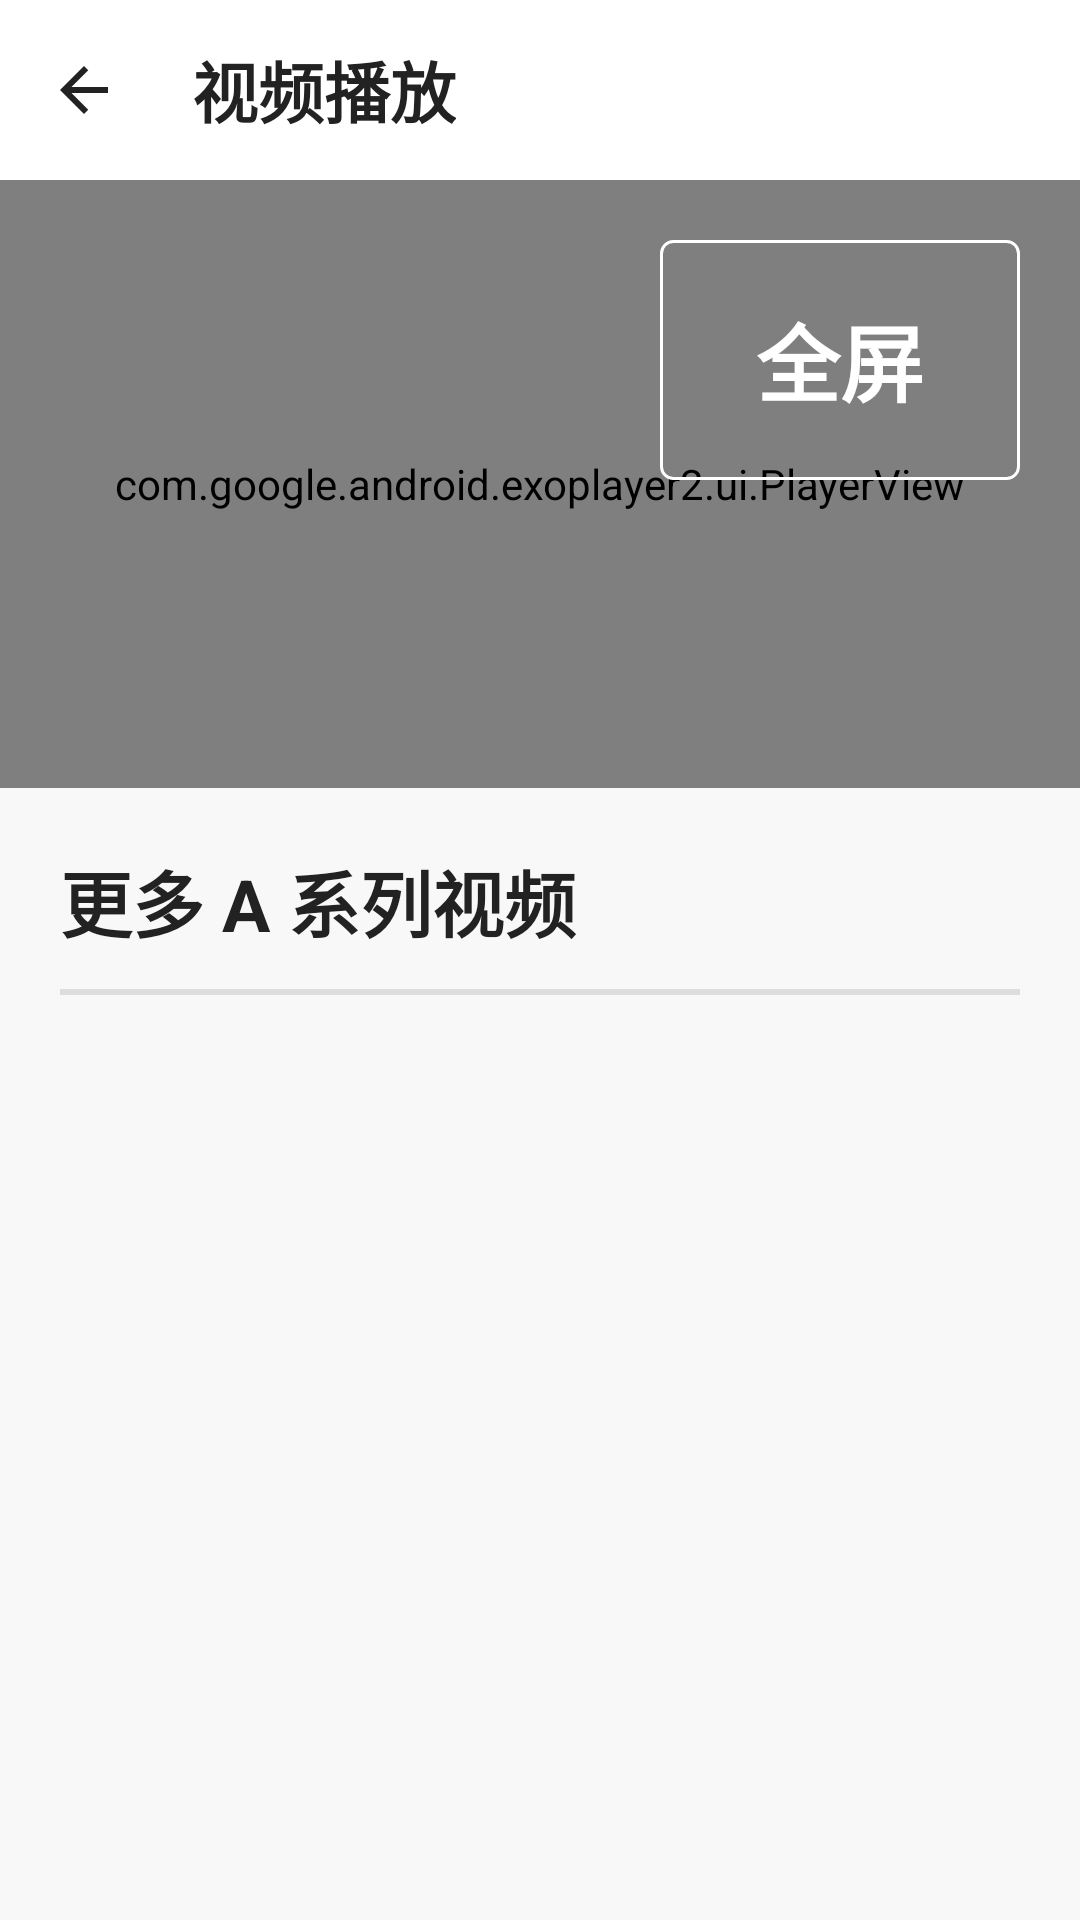

Screen size 1080px×1920px. Icon name, then its box in pixels as (x1, y1, x2, y2):
返回: (60, 66, 108, 114)
